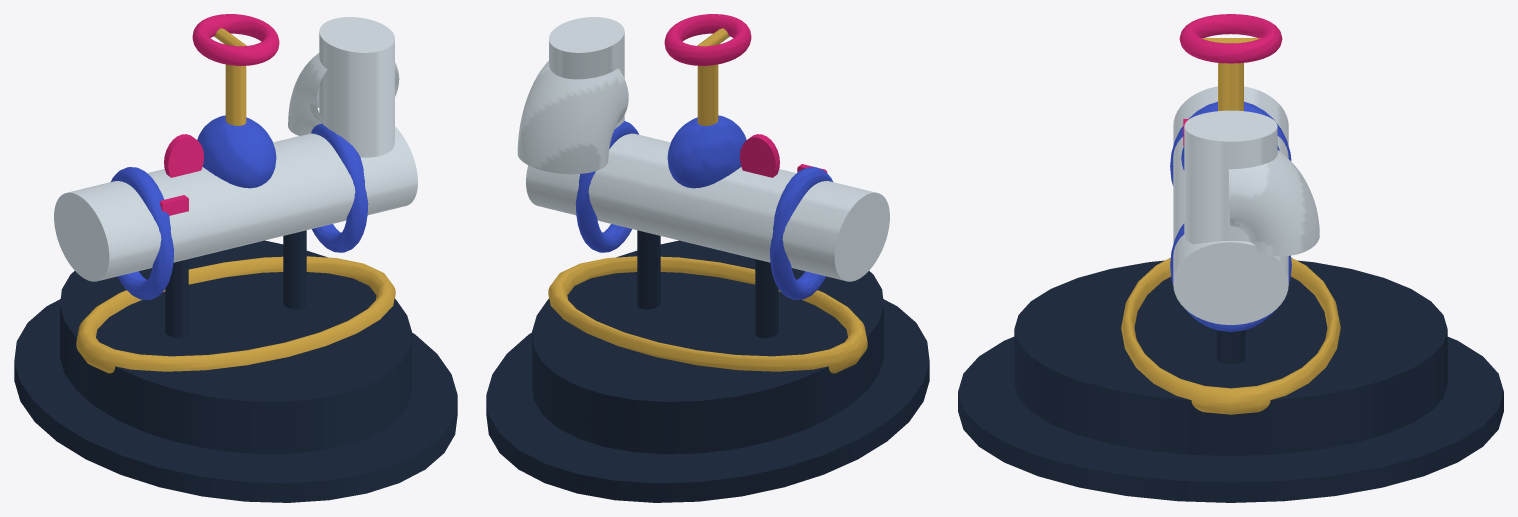
The model's file is 0263_世界古代文明图鉴_棋类游戏.glb.
The picture shows the model from 3 angles, left to right: view 1: azimuth 30°, elevation 25°; view 2: azimuth 150°, elevation 25°; view 3: azimuth 270°, elevation 25°; orthographic projection. The views are drawn at different scales.
Parts seen in each view (by area): view 1: card_0263; view 2: card_0263; view 3: card_0263.
Boxes of the visible parts, x1,y1,x2,y2 form: card_0263: [14, 14, 457, 502]; card_0263: [486, 14, 929, 502]; card_0263: [958, 14, 1503, 502].
Size of the model in its own units: 1.02 by 1 by 1.29.
